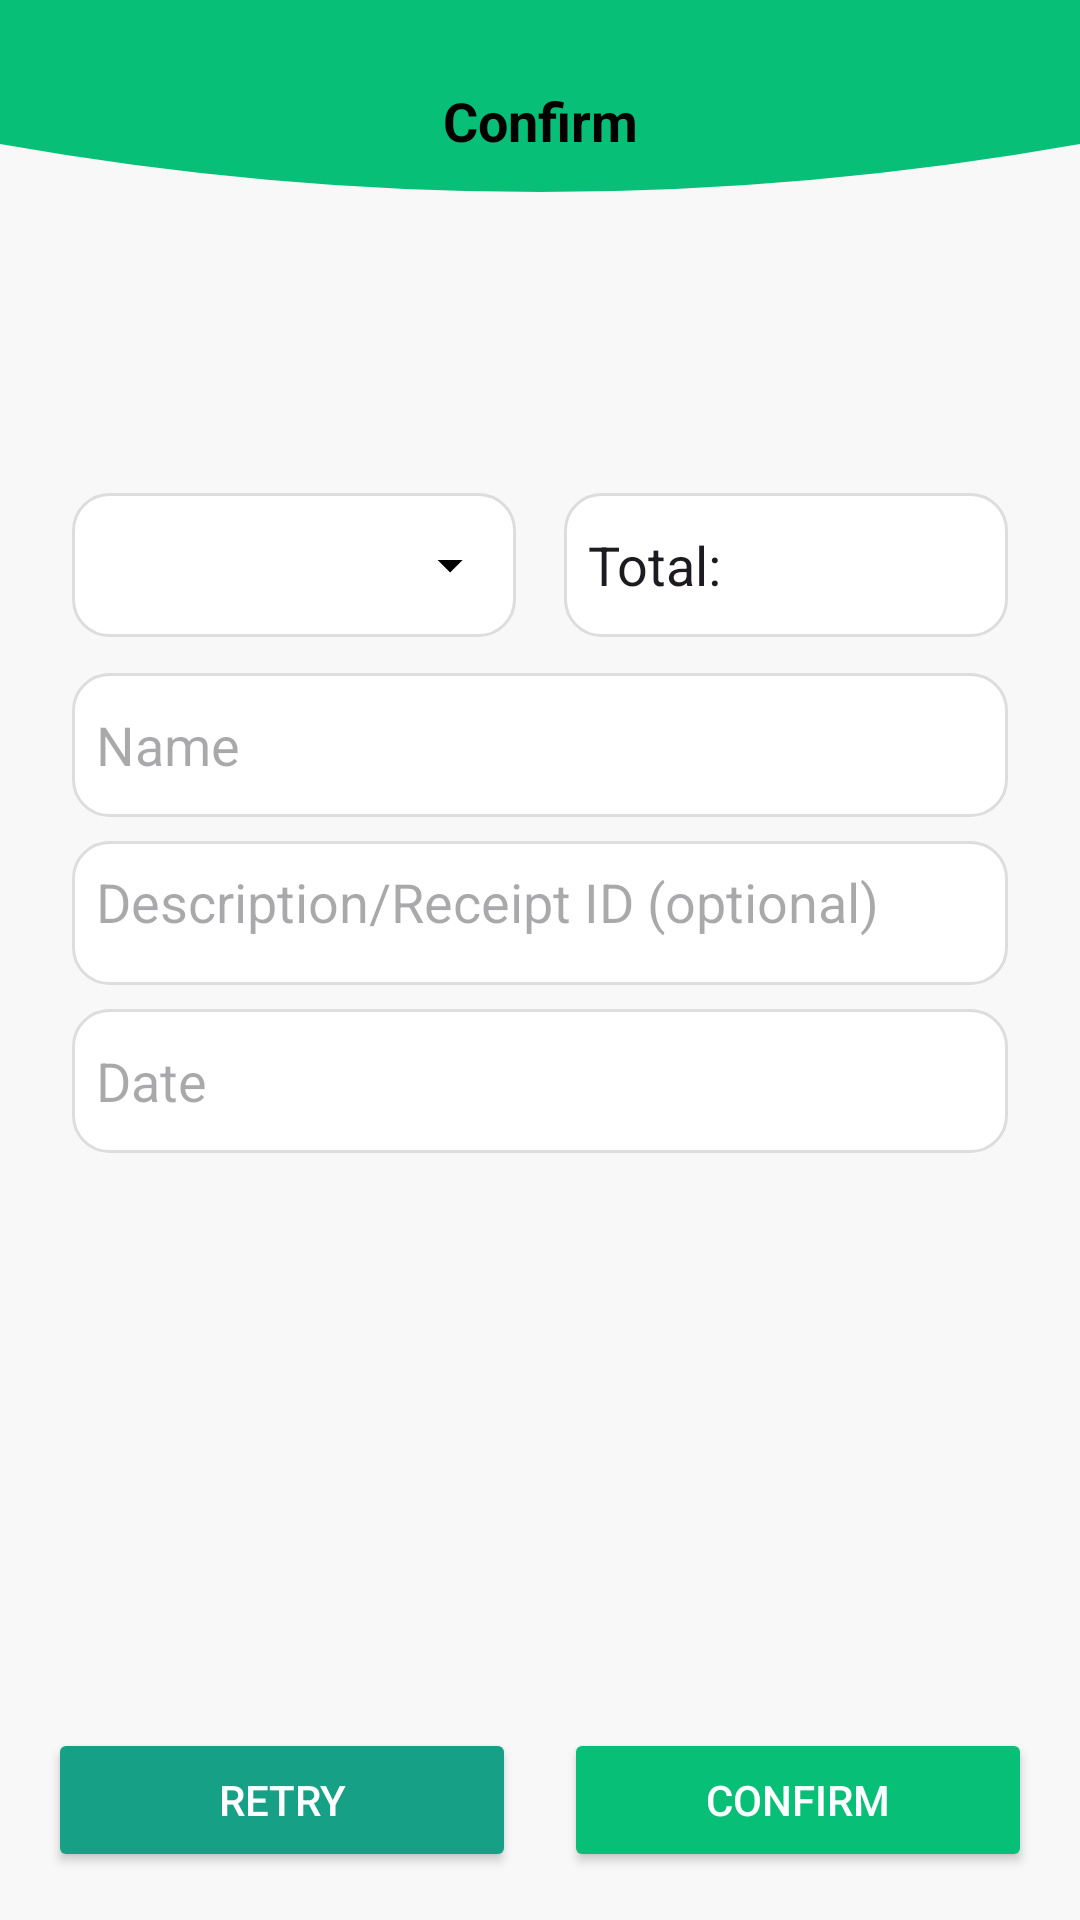

Icon click points for this 1080*1920 phone screenshot, format [x,y]:
arrow drop down: [450,566]
